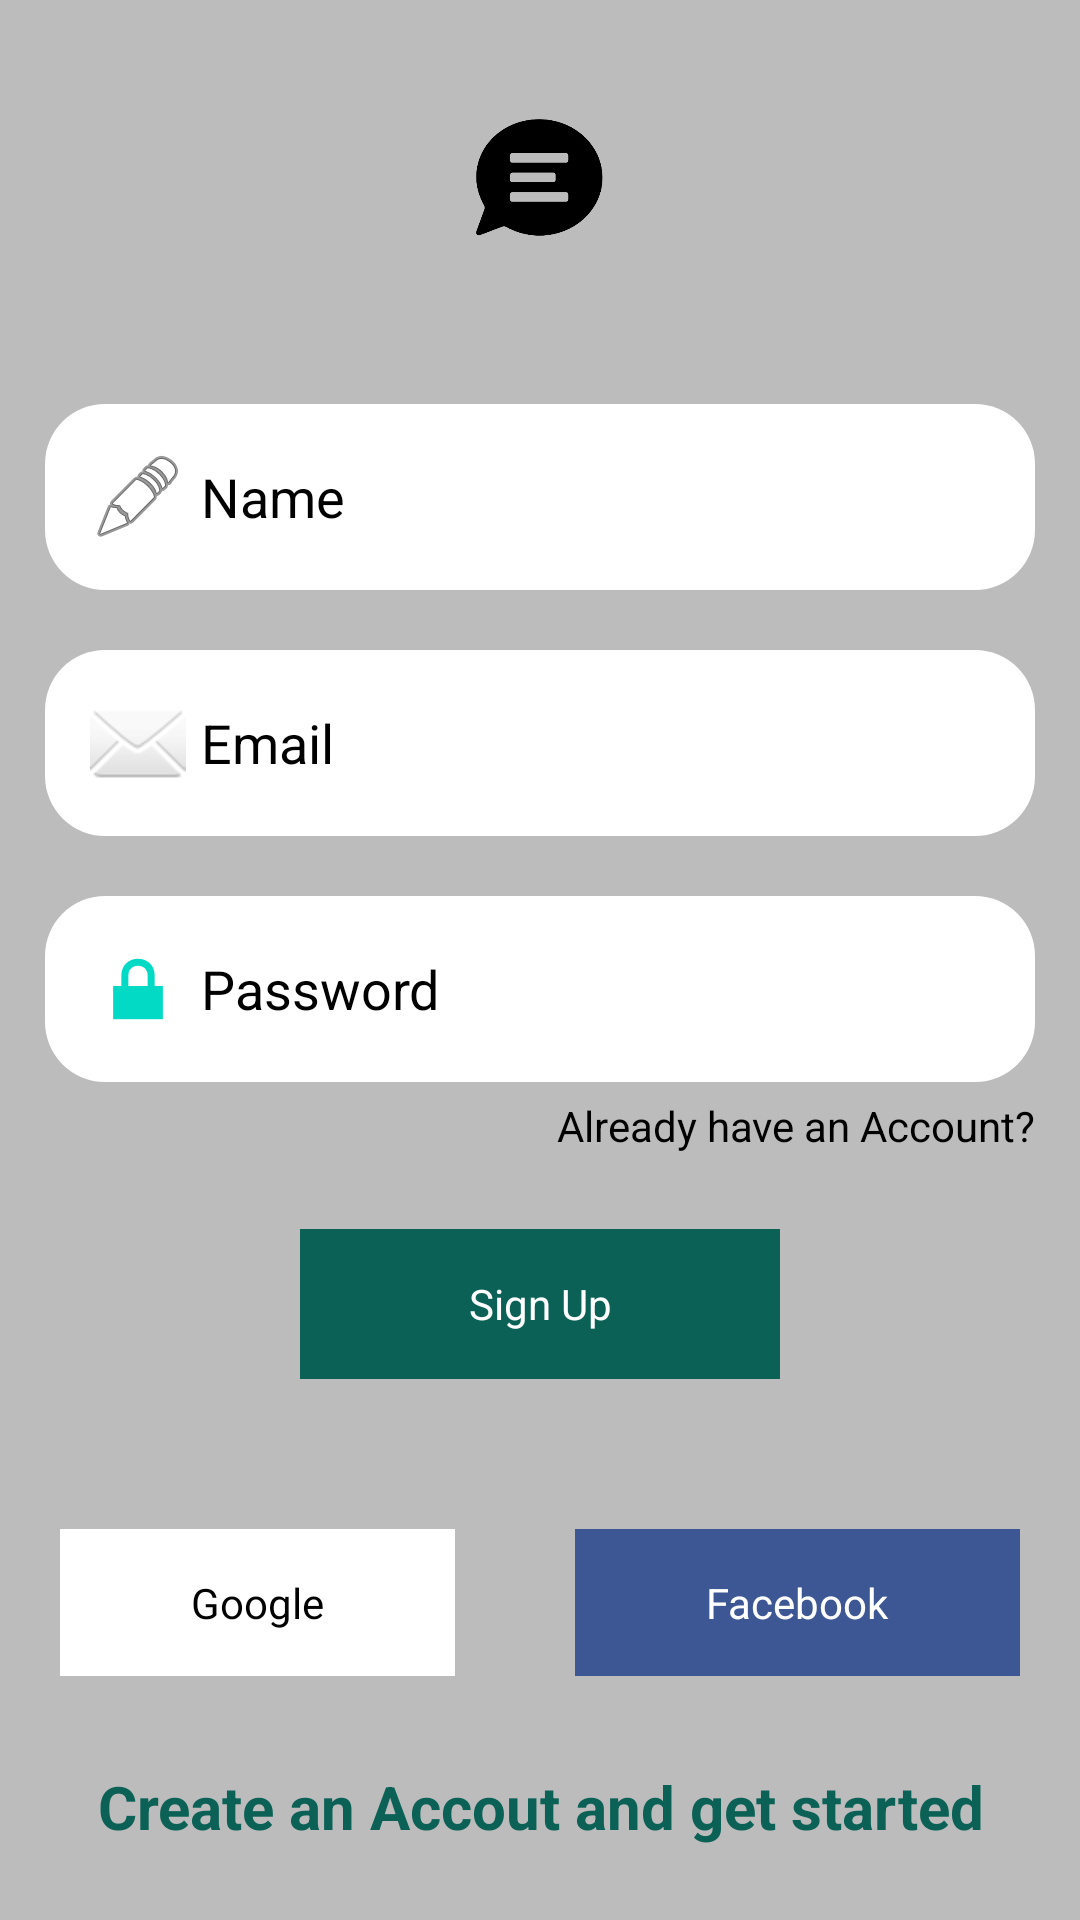

Named icons in this screenshot (1080×1920) and their centers, point (x, y):
quicktext: point (539, 177)
